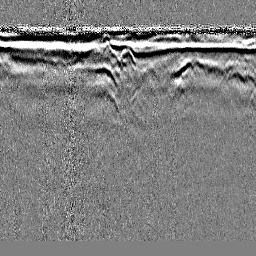cavity: (118, 45, 136, 67)
